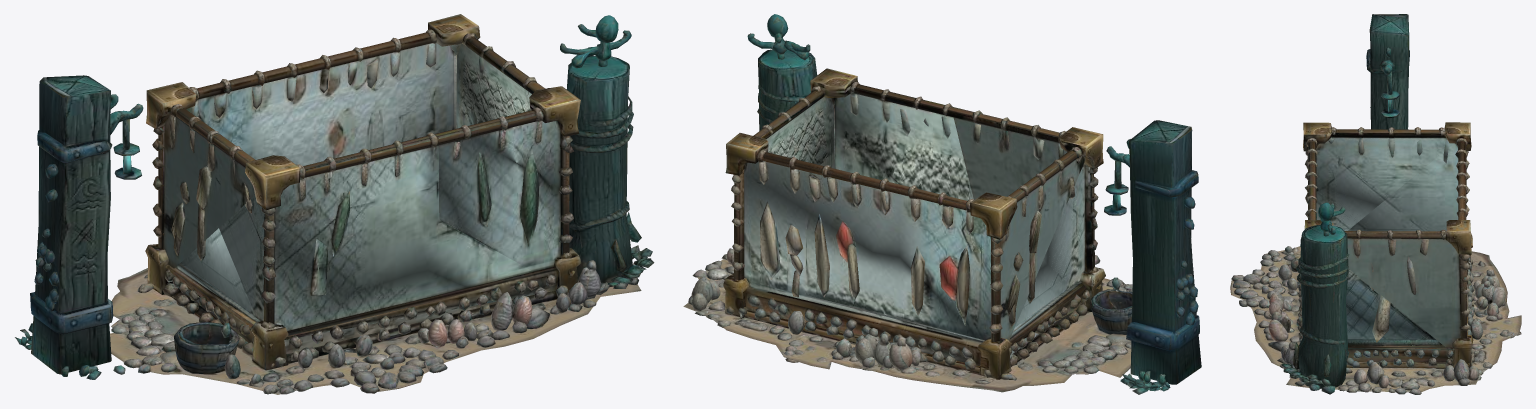
File: cs_aquario.glb
3 renders of one model, left to right at view 1: azimuth 30°, elevation 25°; view 2: azimuth 150°, elevation 25°; view 3: azimuth 270°, elevation 25°, orthographic. The views are drawn at different scales.
Parts seen in each view (by area): view 1: mesh_node; view 2: mesh_node; view 3: mesh_node.
Boxes of the visible parts, x1=… form: mesh_node: x1=15, y1=14, x2=654, y2=394; mesh_node: x1=683, y1=14, x2=1201, y2=394; mesh_node: x1=1230, y1=14, x2=1521, y2=394.
Size of the model in its own units: 1 by 0.4854 by 0.6465.
Materials: 1 (1 with a texture image).
